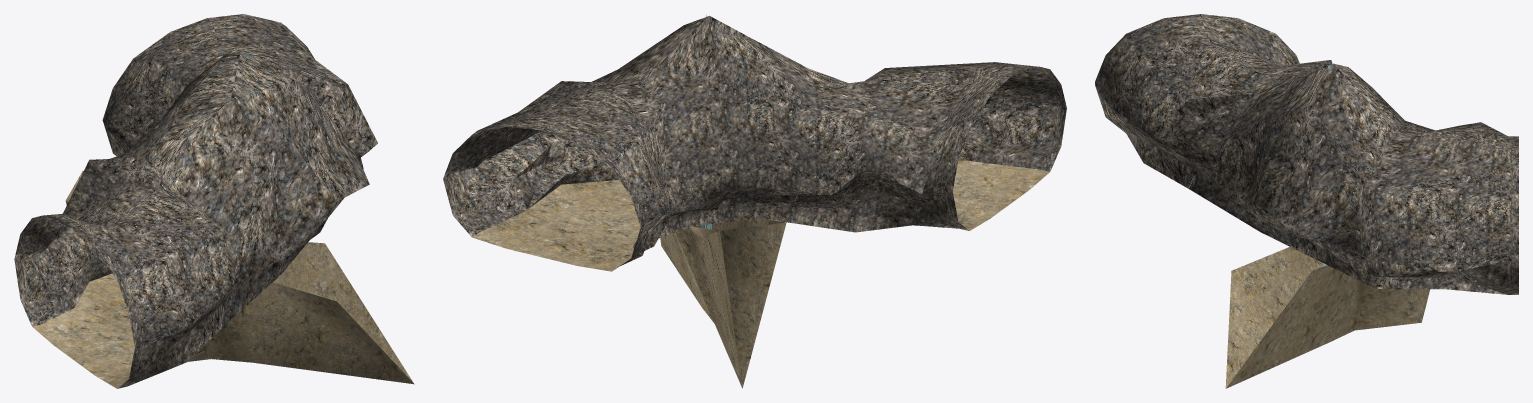
File: pir_m_are_cav_curveWide_water.fbx
3 renders of one model, left to right at view 1: azimuth 30°, elevation 25°; view 2: azimuth 150°, elevation 25°; view 3: azimuth 270°, elevation 25°, orthographic. The views are drawn at different scales.
Visible parts, largest first — view 1: curveWide_wall, curveWide_floor; view 2: curveWide_wall, curveWide_floor; view 3: curveWide_wall, curveWide_floor.
Part boxes in pixels (x1,y1,x2,y2): curveWide_wall: [14, 14, 377, 388]; curveWide_floor: [32, 171, 414, 388]; curveWide_wall: [443, 16, 1066, 269]; curveWide_floor: [472, 160, 1049, 388]; curveWide_wall: [1095, 14, 1518, 294]; curveWide_floor: [1225, 247, 1430, 388].
Size of the model in its own units: 20028 by 15399 by 20000.
3 materials, 3 textured.
